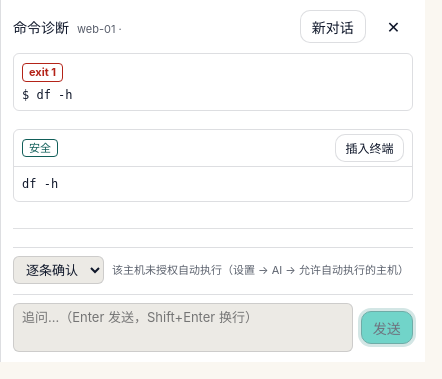
it: 插终端三档确认状态机 › green：一键直插（rustId 在位）
Click the button with test id "ai-insert".
click(369, 148)  # box [335, 134, 404, 162]
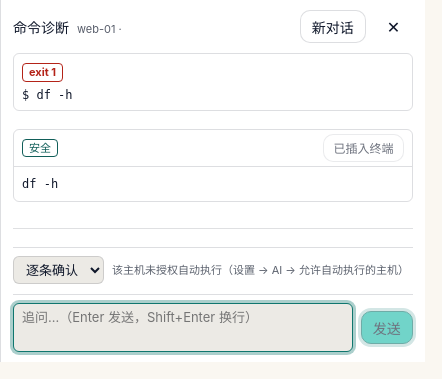
Check: the button with test id "ai-insert" has attribute data-stage="inserted", box [323, 134, 404, 162]
